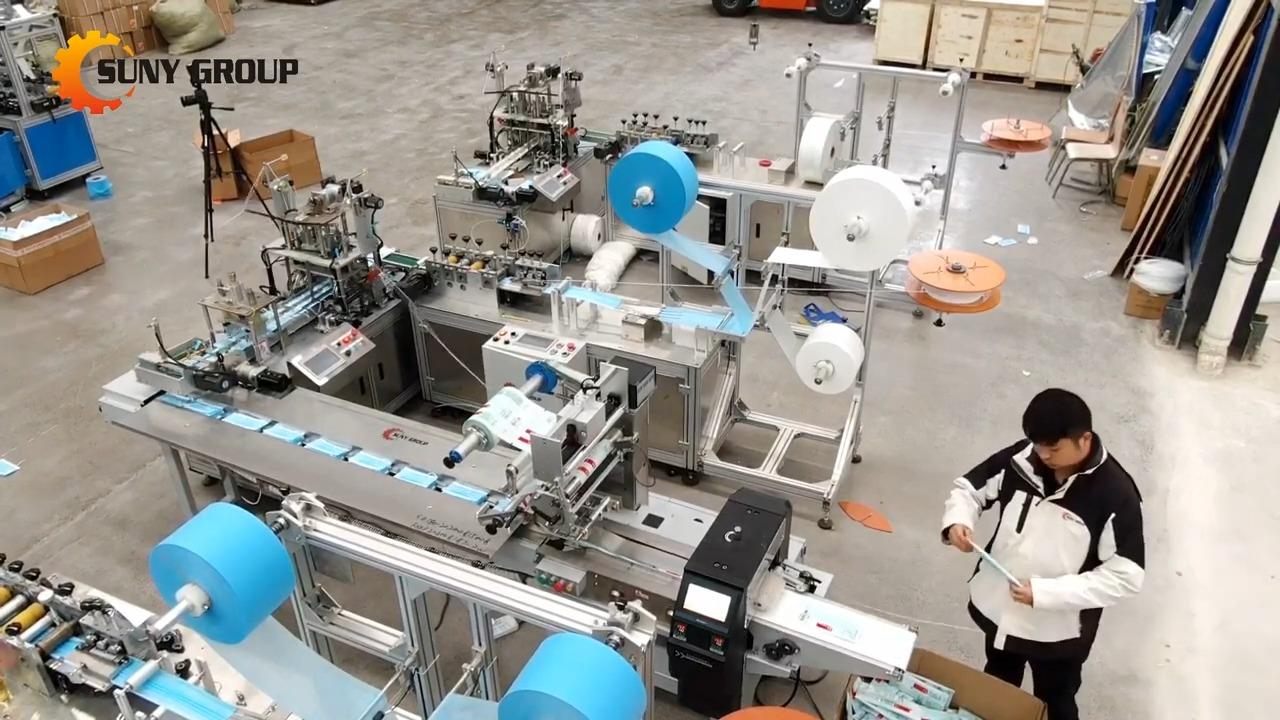mask: (442, 478, 485, 502), (350, 450, 391, 473), (222, 411, 269, 431), (396, 465, 439, 486), (306, 439, 348, 458), (267, 422, 303, 443), (0, 457, 22, 473)
